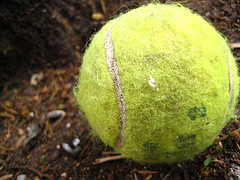tennis ball: (75, 2, 238, 164)
